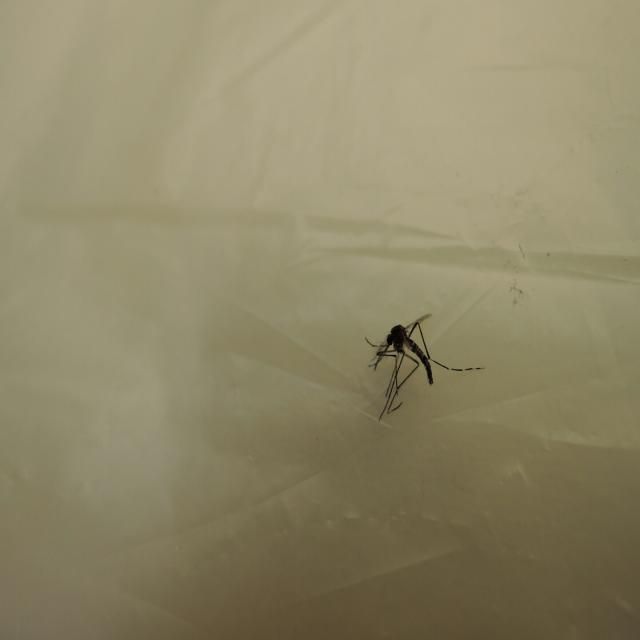albopictus: (364, 303, 484, 419)
